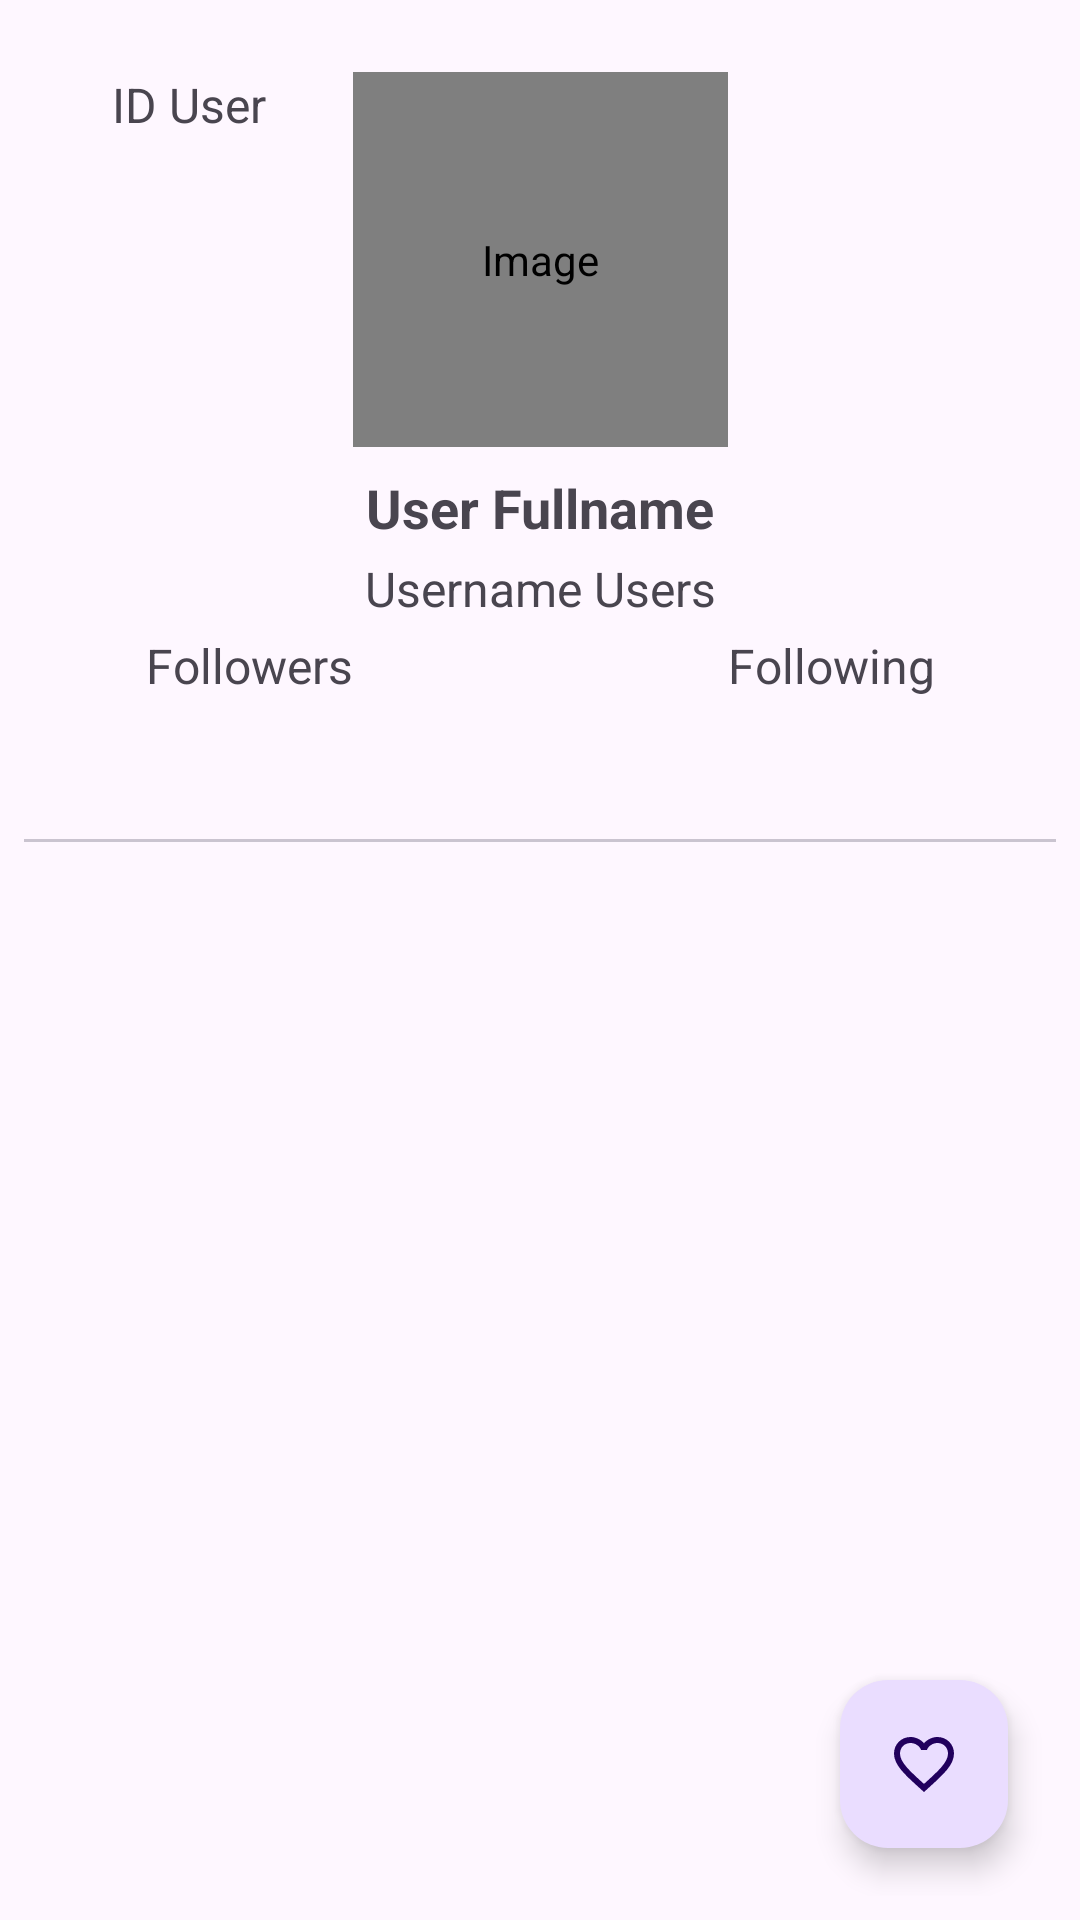

Screen size 1080 x 1920. Icon name, then its box in pixels as (x1, y1, x2, y2):
favorite border: (840, 1680, 1008, 1848)
